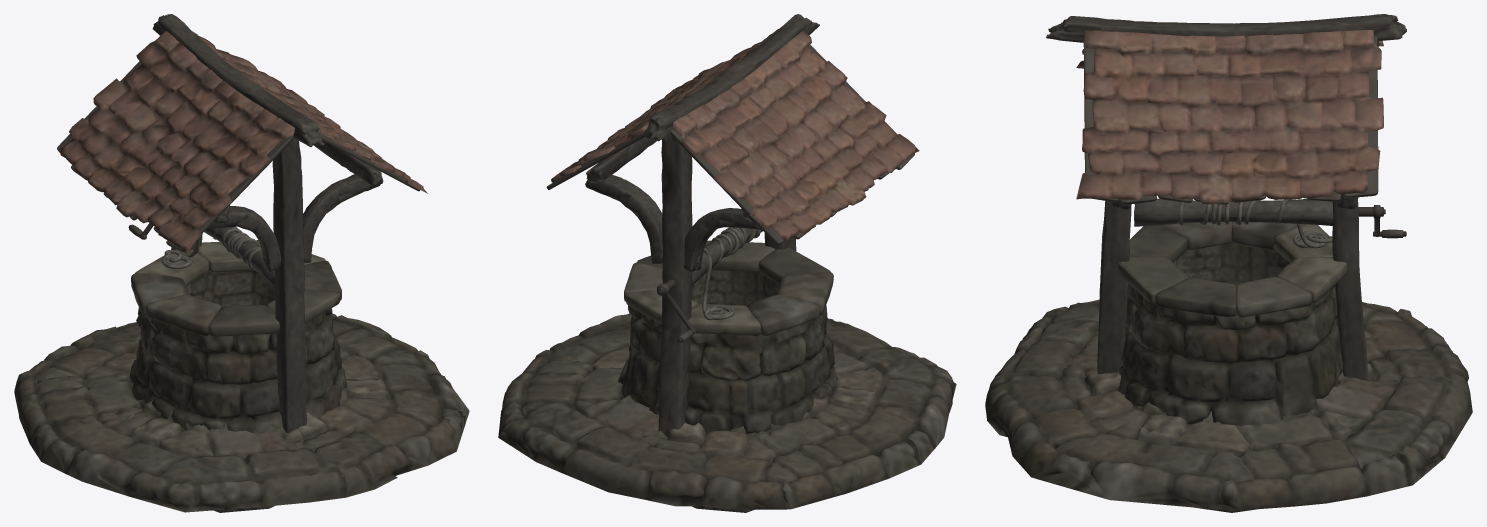
File: Well.fbx
3 renders of one model, left to right at view 1: azimuth 30°, elevation 25°; view 2: azimuth 150°, elevation 25°; view 3: azimuth 270°, elevation 25°, orthographic. The views are drawn at different scales.
Parts seen in each view (by area): view 1: Well, Well_Roof, Well_Wood; view 2: Well, Well_Roof, Well_Wood; view 3: Well, Well_Roof, Well_Wood.
Boxes of the visible parts, x1=… form: Well: x1=14, y1=240, x2=469, y2=512; Well_Roof: x1=60, y1=31, x2=427, y2=253; Well_Wood: x1=57, y1=14, x2=419, y2=433; Well: x1=498, y1=240, x2=956, y2=512; Well_Roof: x1=551, y1=29, x2=919, y2=240; Well_Wood: x1=546, y1=14, x2=914, y2=436; Well: x1=985, y1=221, x2=1472, y2=512; Well_Roof: x1=1076, y1=30, x2=1383, y2=204; Well_Wood: x1=1046, y1=14, x2=1406, y2=380.
Size of what is drawn, in the model's own units: 326 by 336 by 318.
